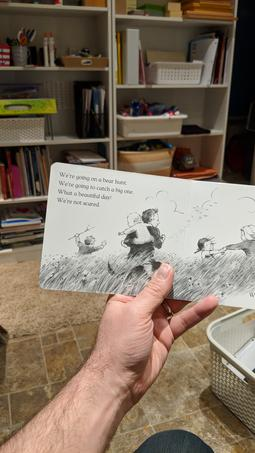text block: (53, 166, 139, 212)
